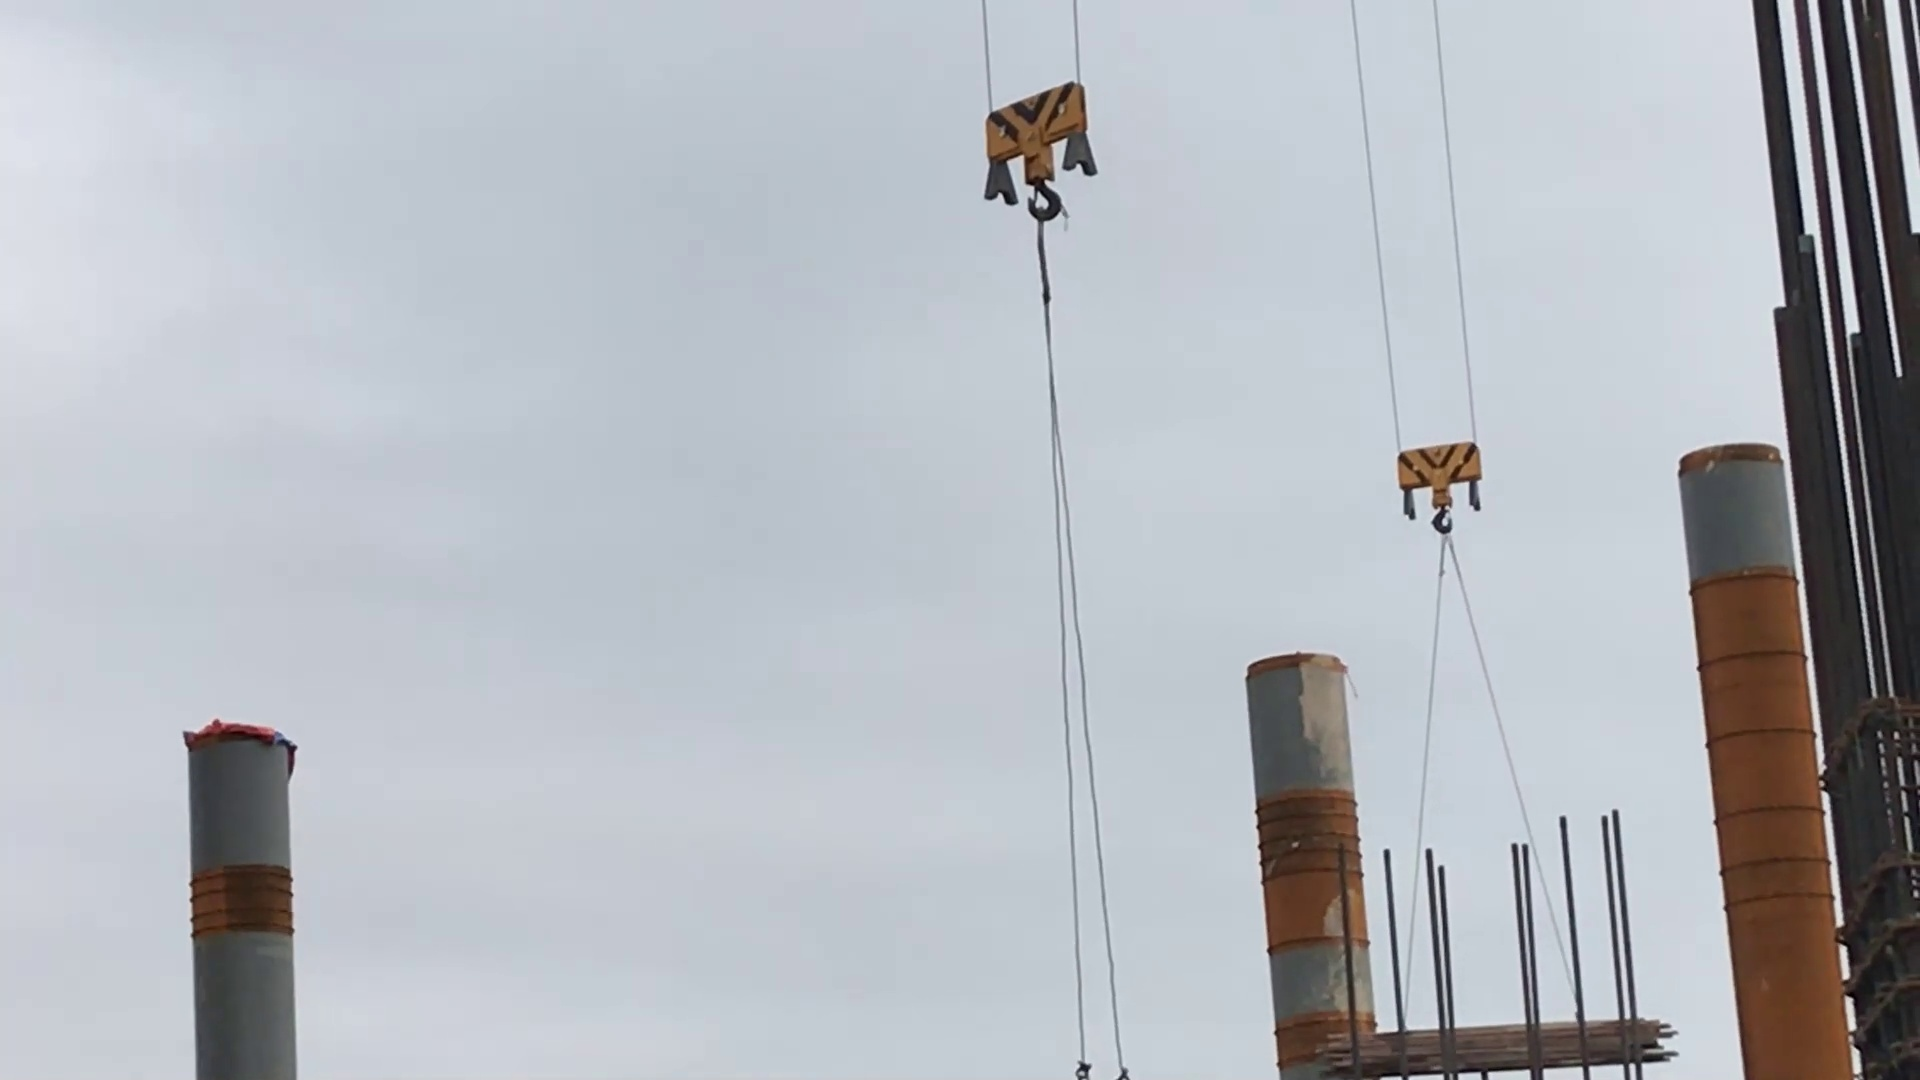hook: (977, 75, 1106, 245), (1391, 438, 1491, 556)
wood: (1312, 1013, 1702, 1080)
